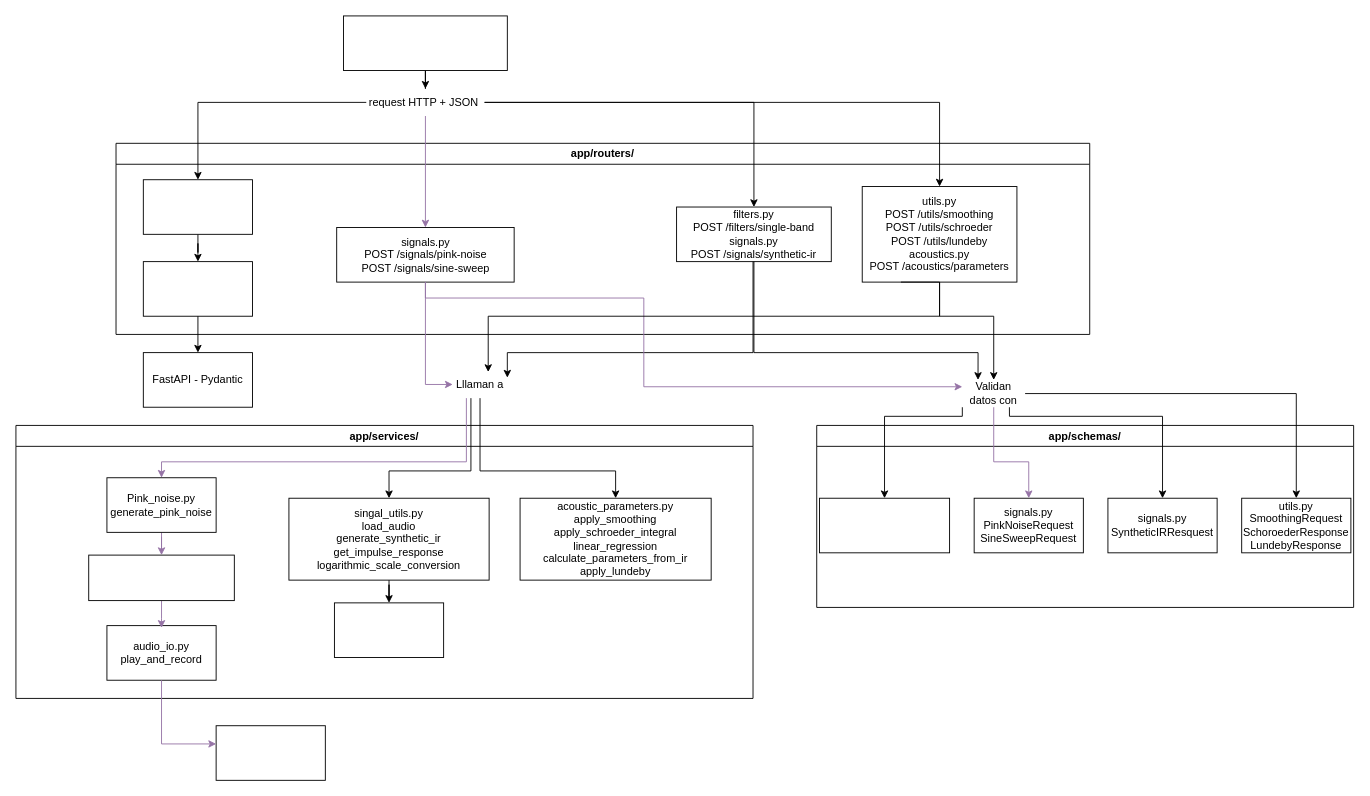
Some shapes in this 1370 by 796 pixel diagram are drawn without their labels. Here are the shapes that lost their labels. From the top down, the centre of each, then its label:
(x=425, y=43): Cliente Swagger - fronted - script - sube un WAV
(x=197, y=206): health.py GET /health
(x=197, y=288): audio_http-py wav_response uploaded_file
(x=884, y=525): responses.py HealthResponse BandAnalysisResponse
(x=161, y=577): sine_sweep_py generate_sine_sweep_pair
(x=389, y=629): filter.py filter_single_band
(x=270, y=752): Numpy - SciPy - sounddevice - soundfile
